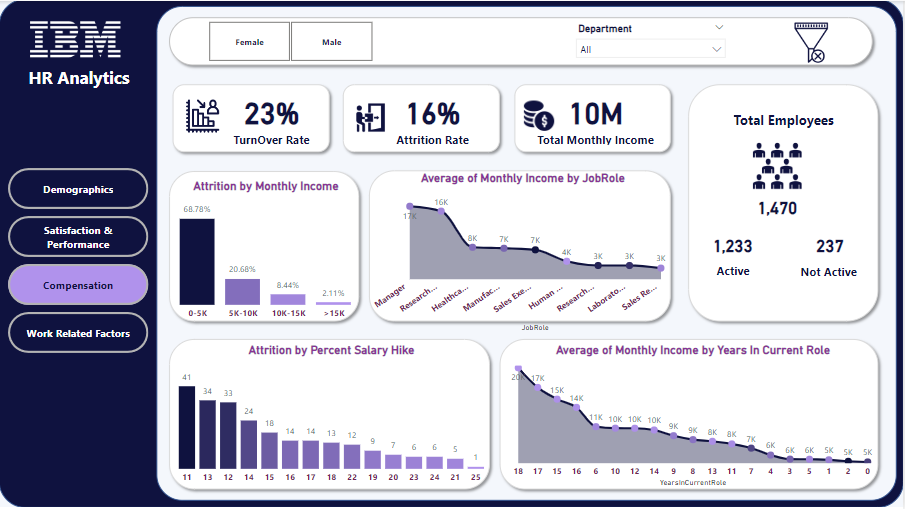

The page's visual inventory and layout, read from the dashboard file:
{"tool":"powerbi","page":{"name":"Compensation","canvas":[1280,720],"ordinal":2},"visuals":[{"type":"textbox","box":[36.9,86.5,165.8,42.5],"z":0},{"type":"card","fields":{"Values":["Dax Measures.# Attrited employees"]},"box":[1133.7,319.6,87.3,54.1],"z":0,"group":"g1"},{"type":"card","fields":{"Values":["Dax Measures.TurnOver Rate"]},"box":[304.6,121.6,163,87.2],"z":1000},{"type":"card","fields":{"Values":["Dax Measures.# Current employees"]},"box":[1002,310.6,75.9,72.1],"z":1000,"group":"g1"},{"type":"card","fields":{"Values":["Dax Measures.Attrtion Rate"]},"box":[524.9,121.6,180.2,87.2],"z":2000},{"type":"card","fields":{"Values":["Dax Measures.Total Employees"]},"box":[1059.3,260.1,88.8,66.7],"z":2000,"group":"g1"},{"type":"card","fields":{"Values":["Dax Measures.Total Monthly Income"]},"box":[755.1,121.6,180.2,87.2],"z":3000},{"type":"textbox","box":[1035.6,150.9,210.5,73.9],"z":3000,"group":"g1"},{"type":"image","box":[1109.1,25.6,82,66.6],"z":4000},{"type":"image","box":[1062.1,195.3,83.1,79.3],"z":4000,"group":"g1"},{"type":"group","id":"g1","title":"Group 1","box":[1002,150.9,277.8,266.5],"z":5000},{"type":"textbox","box":[1012,366.5,75.9,50.5],"z":5000,"group":"g1"},{"type":"image","box":[467.7,130.1,117.3,70.1],"z":6000},{"type":"textbox","box":[1130.9,368.3,148.9,50.5],"z":6000,"group":"g1"},{"type":"image","box":[237.4,134.4,100.1,57.2],"z":7000},{"type":"image","box":[729.4,135.9,70.1,52.9],"z":8000},{"type":"columnChart","title":"Attrition by Percent Salary Hike","fields":{"Category":["Fact_Employees.PercentSalaryHike"],"Y":["Dax Measures.# Attrited employees"]},"box":[238.1,484.7,466.3,208.3],"z":9000},{"type":"columnChart","title":"Attrition by Monthly Income","fields":{"Category":["Fact_Employees.MonthyIncomeGroup"],"Y":["Dax Measures.# Attrited employees"]},"box":[225.4,252.3,306.1,208.3],"z":10000},{"type":"lineChart","title":"Average of Monthly Income by Years In Current Role","fields":{"Y":["Avg(Fact_Employees.MonthlyIncome)"],"Category":["Fact_Employees.YearsInCurrentRole"]},"box":[720,484.7,527.2,208.3],"z":11000},{"type":"lineChart","title":"Average of Monthly Income by JobRole","fields":{"Y":["Avg(Fact_Employees.MonthlyIncome)"],"Category":["DIM_JobRole.JobRole"]},"box":[524.4,240.9,436.5,232.4],"z":12000},{"type":"pageNavigator","box":[12.8,226.8,199.8,284.9],"z":13000},{"type":"slicer","fields":{"Values":["DIM_Gender.Gender"]},"box":[272.1,22.7,280.6,69.4],"z":14000},{"type":"slicer","fields":{"Values":["DIM_Department.Department"]},"box":[807.9,25.5,232.4,60.9],"z":15000}]}

Visuals, with their boxes in screenshot pixels (x1, y1, x2, y2), scaled from the page's 1280x720 canvas onto the 905x509 screenshot:
textbox: x1=26, y1=61, x2=143, y2=91
card - Dax Measures.# Attrited employees: x1=802, y1=226, x2=863, y2=264
card - Dax Measures.TurnOver Rate: x1=215, y1=86, x2=331, y2=148
card - Dax Measures.# Current employees: x1=708, y1=220, x2=762, y2=271
card - Dax Measures.Attrtion Rate: x1=371, y1=86, x2=499, y2=148
card - Dax Measures.Total Employees: x1=749, y1=184, x2=812, y2=231
card - Dax Measures.Total Monthly Income: x1=534, y1=86, x2=661, y2=148
textbox: x1=732, y1=107, x2=881, y2=159
image: x1=784, y1=18, x2=842, y2=65
image: x1=751, y1=138, x2=810, y2=194
"Group 1" group: x1=708, y1=107, x2=904, y2=295
textbox: x1=716, y1=259, x2=769, y2=295
image: x1=331, y1=92, x2=414, y2=142
textbox: x1=800, y1=260, x2=904, y2=296
image: x1=168, y1=95, x2=239, y2=135
image: x1=516, y1=96, x2=565, y2=133
"Attrition by Percent Salary Hike" columnChart: x1=168, y1=343, x2=498, y2=490
"Attrition by Monthly Income" columnChart: x1=159, y1=178, x2=376, y2=326
"Average of Monthly Income by Years In Current Role" lineChart: x1=509, y1=343, x2=882, y2=490
"Average of Monthly Income by JobRole" lineChart: x1=371, y1=170, x2=679, y2=335
pageNavigator: x1=9, y1=160, x2=150, y2=362
slicer - DIM_Gender.Gender: x1=192, y1=16, x2=391, y2=65
slicer - DIM_Department.Department: x1=571, y1=18, x2=736, y2=61
